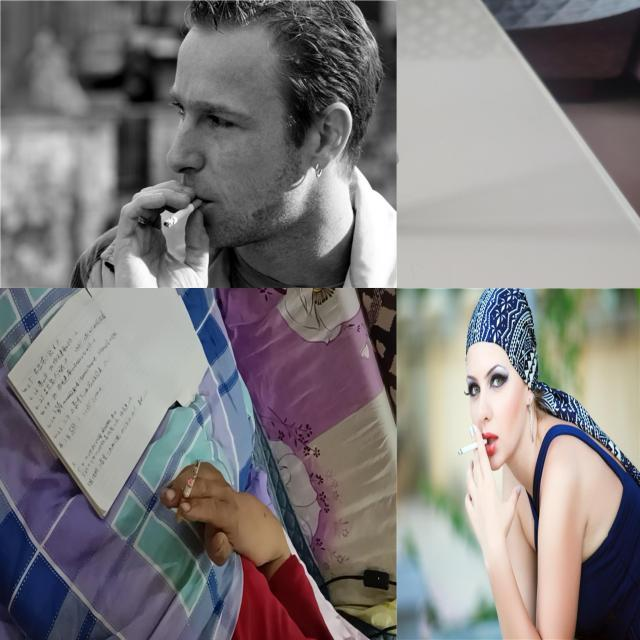smoking: (174, 458, 201, 524), (163, 198, 204, 228), (458, 438, 488, 458)
